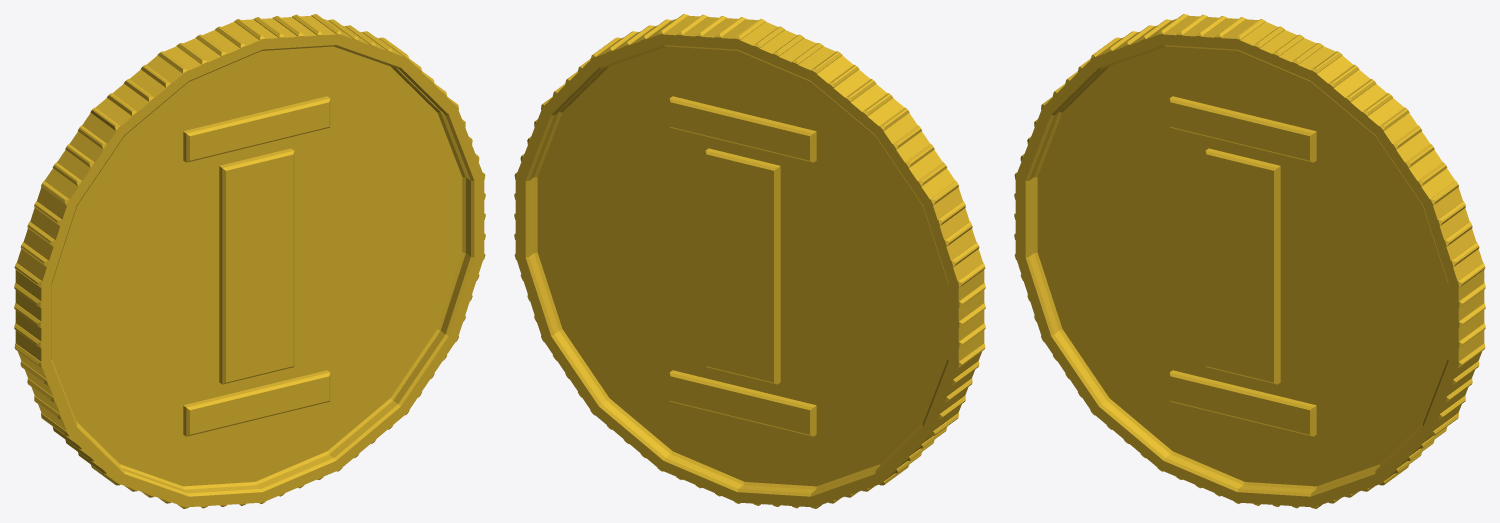
File: Coin_02.fbx
The picture shows the model from 3 angles, left to right: view 1: azimuth 30°, elevation 25°; view 2: azimuth 150°, elevation 25°; view 3: azimuth 330°, elevation 25°; orthographic projection.
Visible parts, largest first — view 1: Coin_02; view 2: Coin_02; view 3: Coin_02.
Part boxes in pixels (box(x1,y1,x2,y2)): Coin_02: box(14, 14, 485, 508); Coin_02: box(514, 14, 985, 508); Coin_02: box(1014, 14, 1485, 508).
Size of the model in its own units: 203 by 202 by 20.
